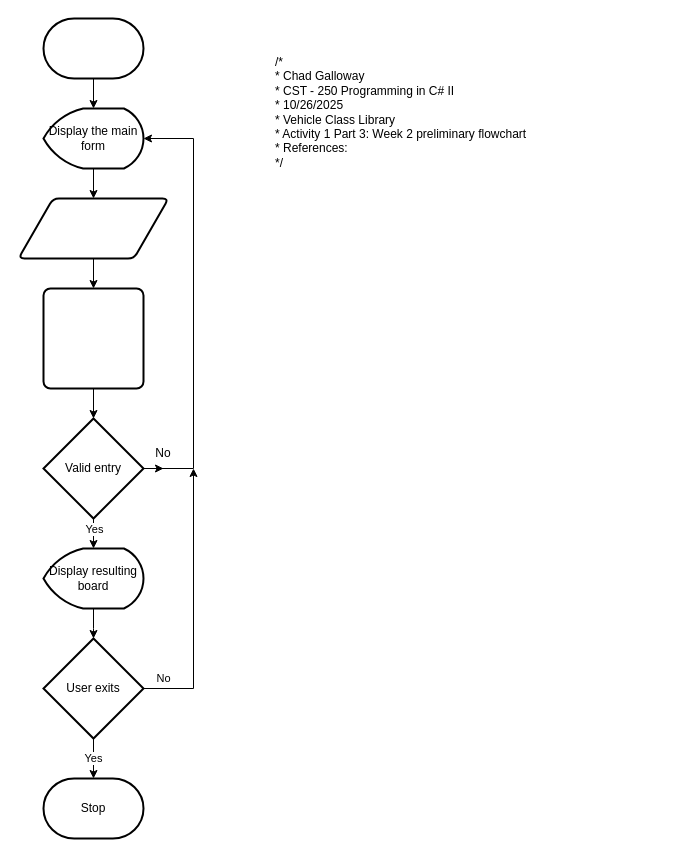
Image size: 680x856. Some labels were removed from this diagram. The centre of each missing label's shape, as x and y in pixels:
"Process legality of the requested move" belongs at (93,338).
"Read in users desired piece selection" belongs at (93,228).
"Start" belongs at (93,48).
